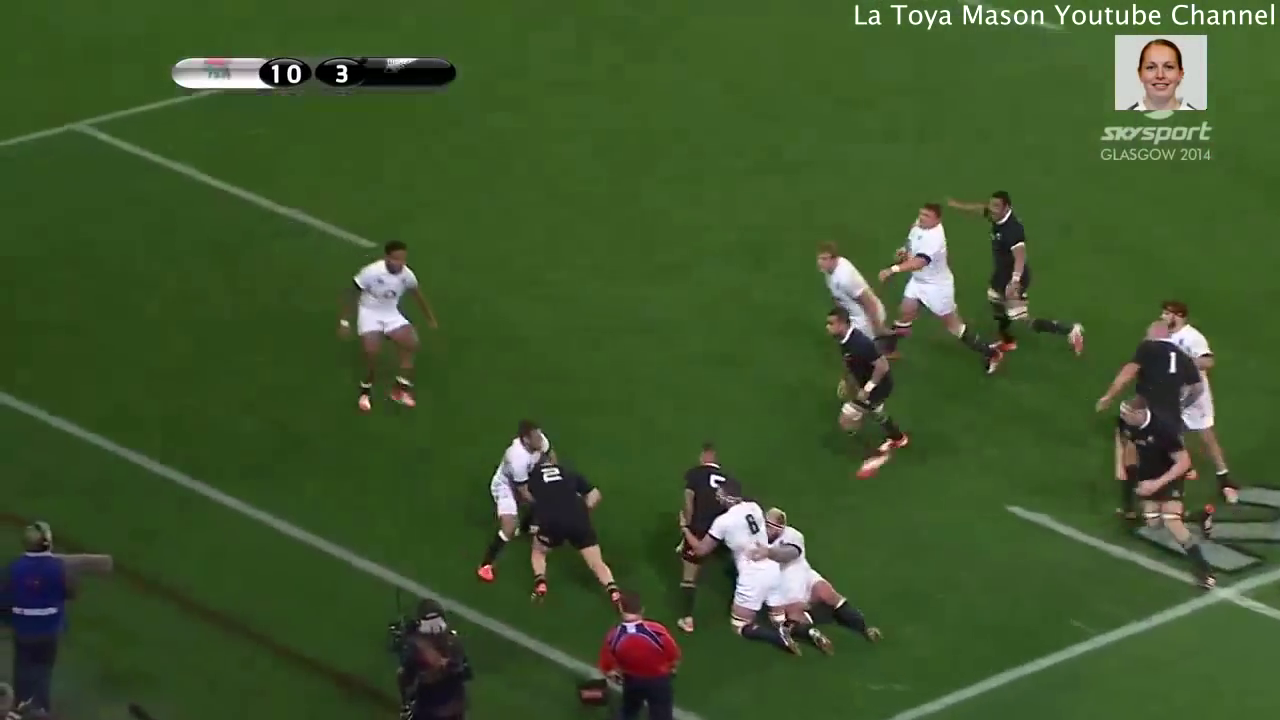player: (940, 170, 1089, 364), (683, 468, 834, 654), (1101, 391, 1223, 604), (877, 182, 1003, 385), (327, 230, 451, 421), (1151, 296, 1261, 506), (1081, 313, 1216, 446), (821, 301, 918, 485), (521, 450, 629, 613), (757, 501, 874, 644), (471, 415, 560, 589), (802, 232, 902, 386), (662, 429, 735, 633)
